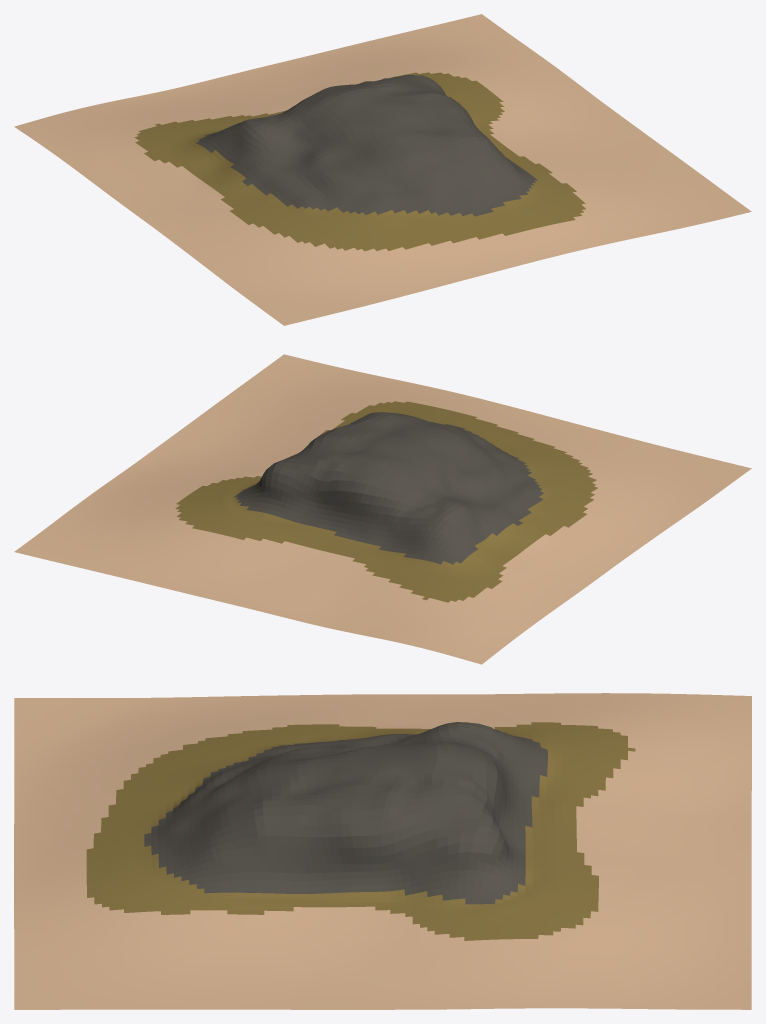
The model's file is island.fbx.
The picture shows the model from 3 angles, top to bottom: view 1: azimuth 30°, elevation 25°; view 2: azimuth 150°, elevation 25°; view 3: azimuth 270°, elevation 25°; orthographic projection. The views are drawn at different scales.
Parts seen in each view (by area): view 1: Grid; view 2: Grid; view 3: Grid.
Boxes of the visible parts, box(x1,y1,x2,y2) form: Grid: box(14, 14, 751, 325); Grid: box(14, 354, 751, 664); Grid: box(14, 693, 751, 1009).
Bounding box in the file's own units: 3001 × 412 × 3002.
